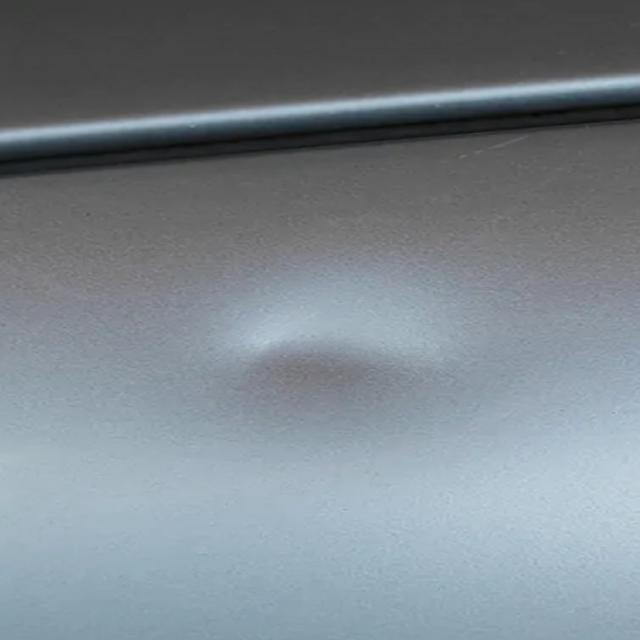dents: (193, 296, 467, 449)
